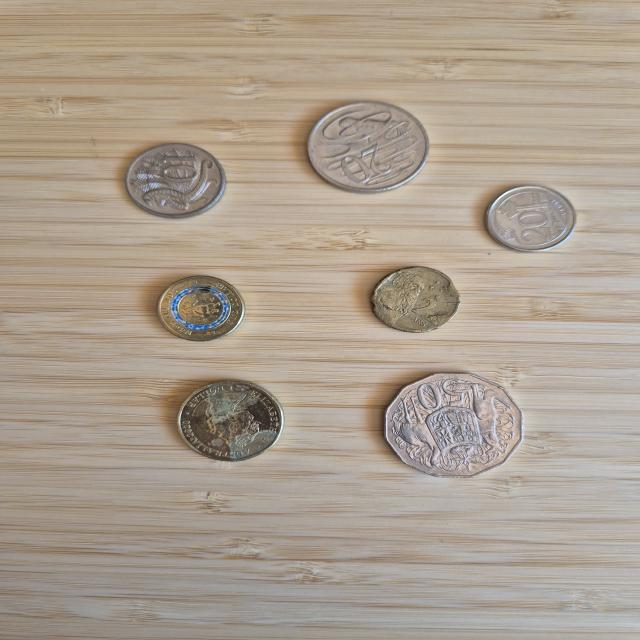1-dollar: (167, 379, 284, 466)
10-cents: (116, 140, 228, 222)
2-dollar: (139, 272, 248, 345), (365, 265, 463, 336)
20-cents: (305, 101, 430, 199)
5-cents: (485, 180, 579, 255)
50-cents: (380, 371, 525, 482)
